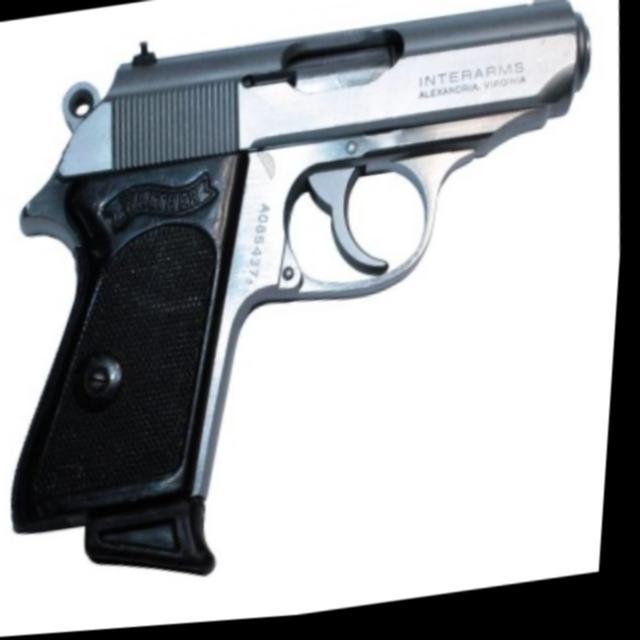weapon: (0, 0, 629, 605)
